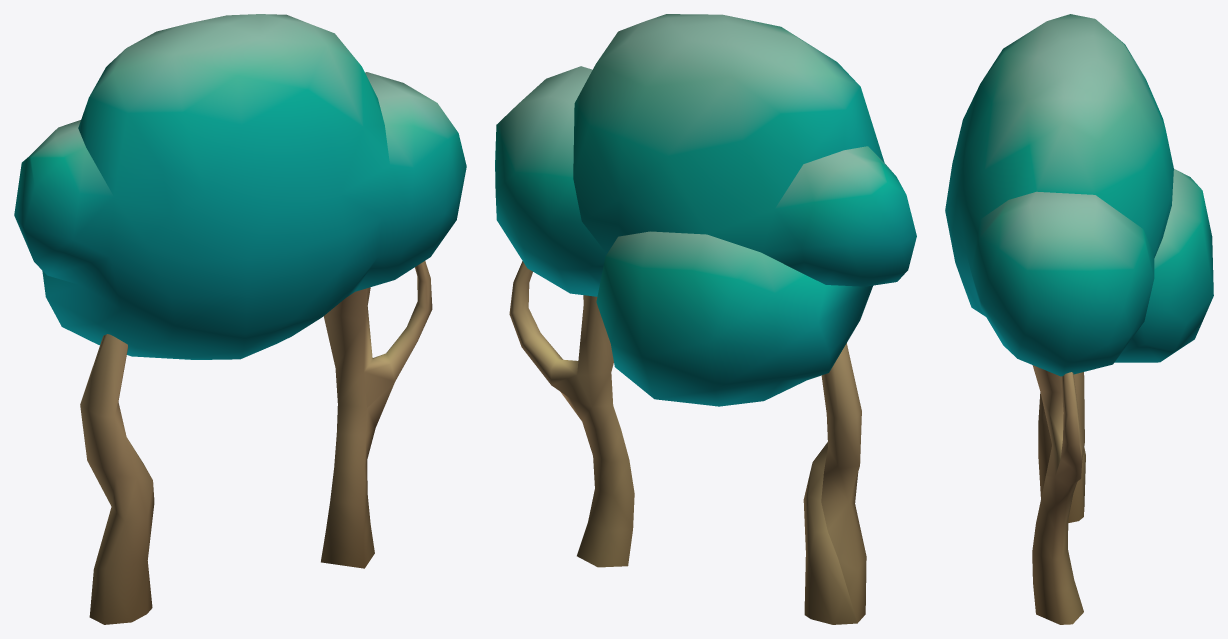
File: obstacle-squiggly_bush_H2g.glb
3 views of the same model, side by side, from view 1: azimuth 30°, elevation 25°; view 2: azimuth 150°, elevation 25°; view 3: azimuth 270°, elevation 25° (orthographic). The views are drawn at different scales.
Visible parts, largest first — view 1: obstacle-squiggly_bush_H2g; view 2: obstacle-squiggly_bush_H2g; view 3: obstacle-squiggly_bush_H2g.
Part boxes in pixels (x1,y1,x2,y2): obstacle-squiggly_bush_H2g: (14, 14, 466, 624); obstacle-squiggly_bush_H2g: (495, 14, 916, 624); obstacle-squiggly_bush_H2g: (945, 14, 1213, 624).
Bounding box in the file's own units: 3.44 × 4.4 × 2.07.
